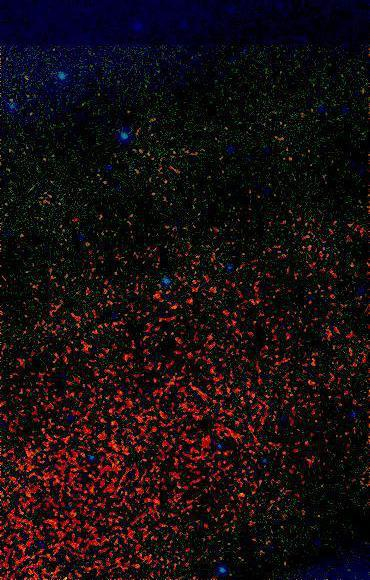star: (223, 477, 253, 507)
